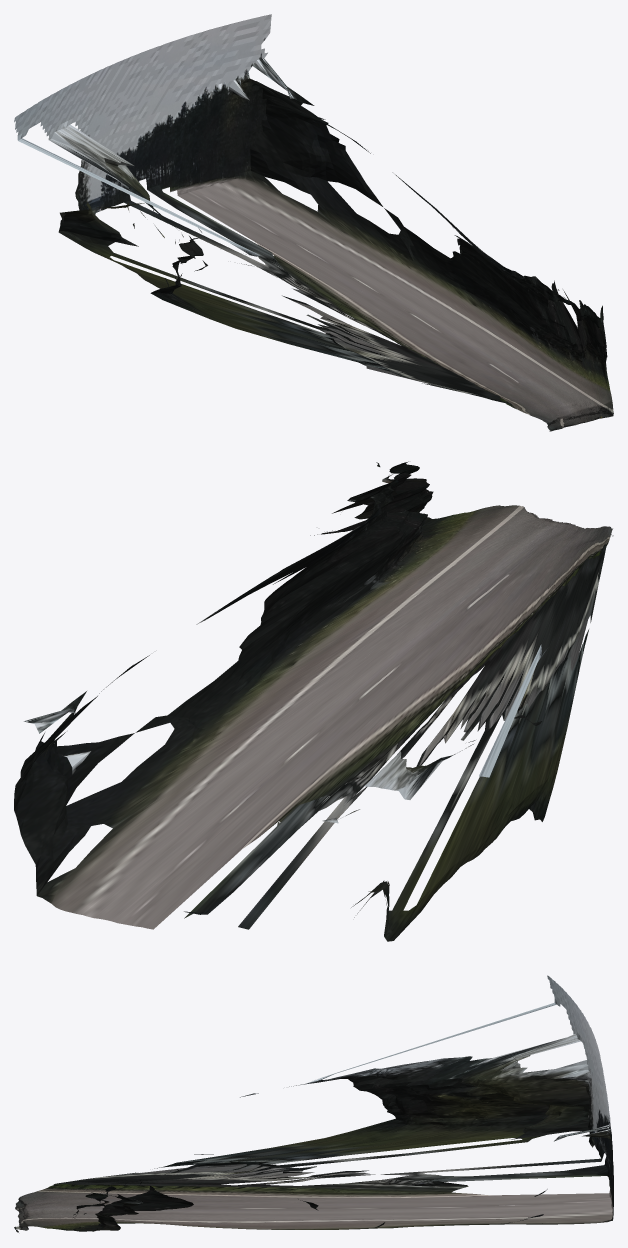
The picture shows the model from 3 angles, top to bottom: view 1: azimuth 30°, elevation 25°; view 2: azimuth 150°, elevation 25°; view 3: azimuth 270°, elevation 25°; orthographic projection. The views are drawn at different scales.
Parts seen in each view (by area): view 1: defaultobject; view 2: defaultobject; view 3: defaultobject.
Boxes of the visible parts, left/top/right/bottom form: defaultobject: left=14, top=14, right=613, bottom=431; defaultobject: left=14, top=461, right=613, bottom=941; defaultobject: left=14, top=975, right=613, bottom=1232.
Bounding box in the file's own units: 25.43 × 11.71 × 44.57.
1 material, 1 textured.
